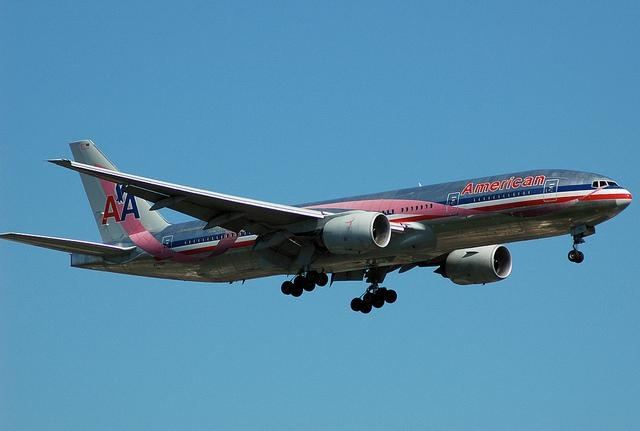airplane: (1, 131, 633, 315)
